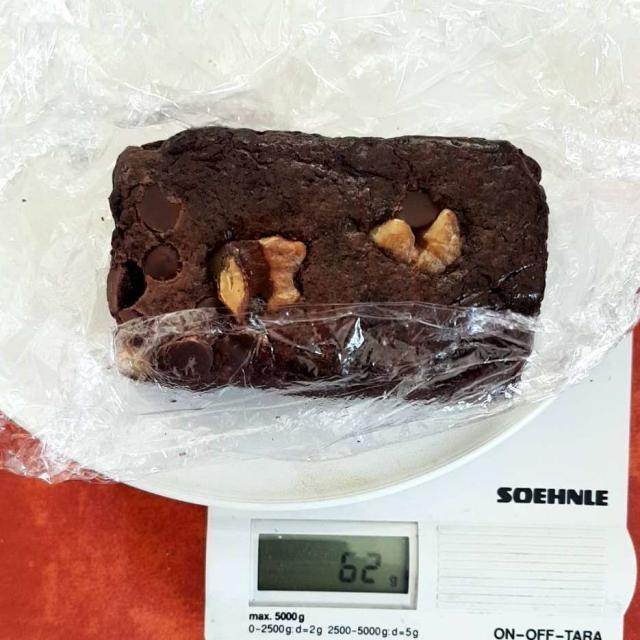brownie: (113, 125, 551, 392)
